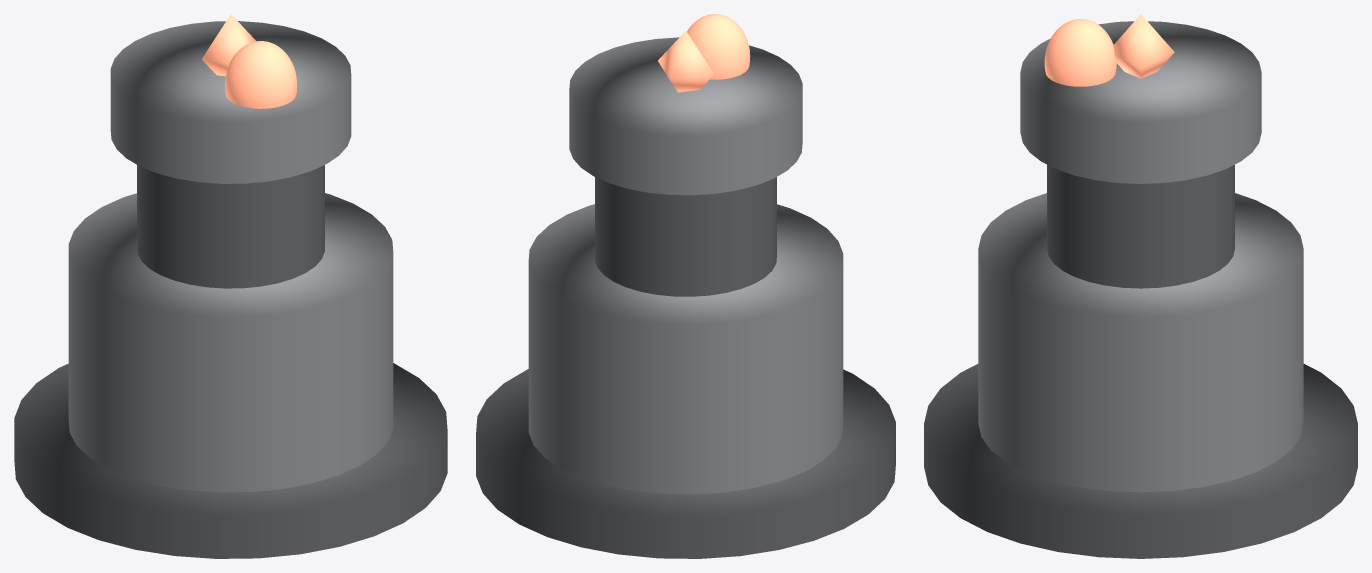
The model's file is fire_l1.glb.
3 views of the same model, side by side, from view 1: azimuth 30°, elevation 25°; view 2: azimuth 150°, elevation 25°; view 3: azimuth 270°, elevation 25° (orthographic). The views are drawn at different scales.
Visible parts, largest first — view 1: base, footing, brazier, shaft, ember, spinCrystal; view 2: base, footing, brazier, shaft, ember, spinCrystal; view 3: base, footing, brazier, shaft, ember, spinCrystal.
Part boxes in pixels (box(x1,y1,x2,y2)): base: box(68, 193, 393, 492); footing: box(14, 363, 447, 558); brazier: box(110, 21, 351, 183); shaft: box(137, 165, 324, 288); ember: box(225, 41, 297, 108); spinCrystal: box(202, 14, 256, 76); base: box(528, 204, 843, 494); footing: box(476, 369, 895, 558); brazier: box(569, 37, 802, 195); shaft: box(595, 177, 776, 296); ember: box(687, 14, 750, 79); spinCrystal: box(658, 31, 713, 92); base: box(978, 193, 1303, 492); footing: box(924, 364, 1357, 558); brazier: box(1020, 21, 1261, 183); shaft: box(1047, 164, 1234, 288); ember: box(1044, 19, 1116, 86); spinCrystal: box(1113, 14, 1174, 78).
Size of the model in its own units: 1.8 by 2.07 by 1.8.
